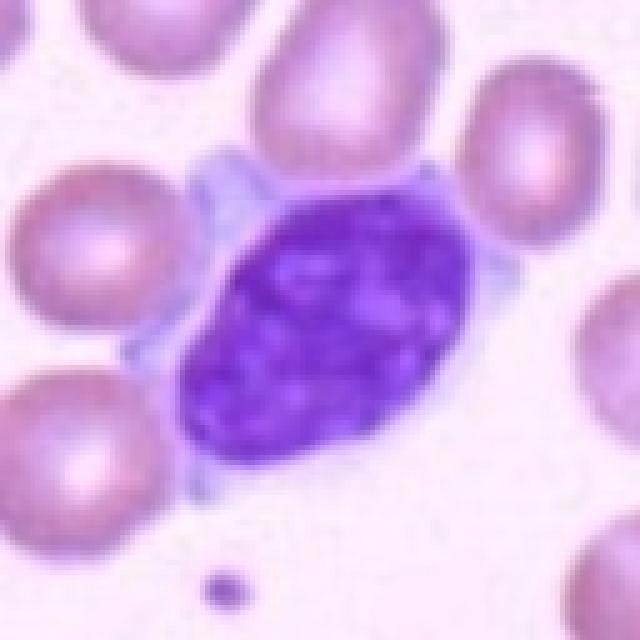lympho: (114, 127, 536, 513)
